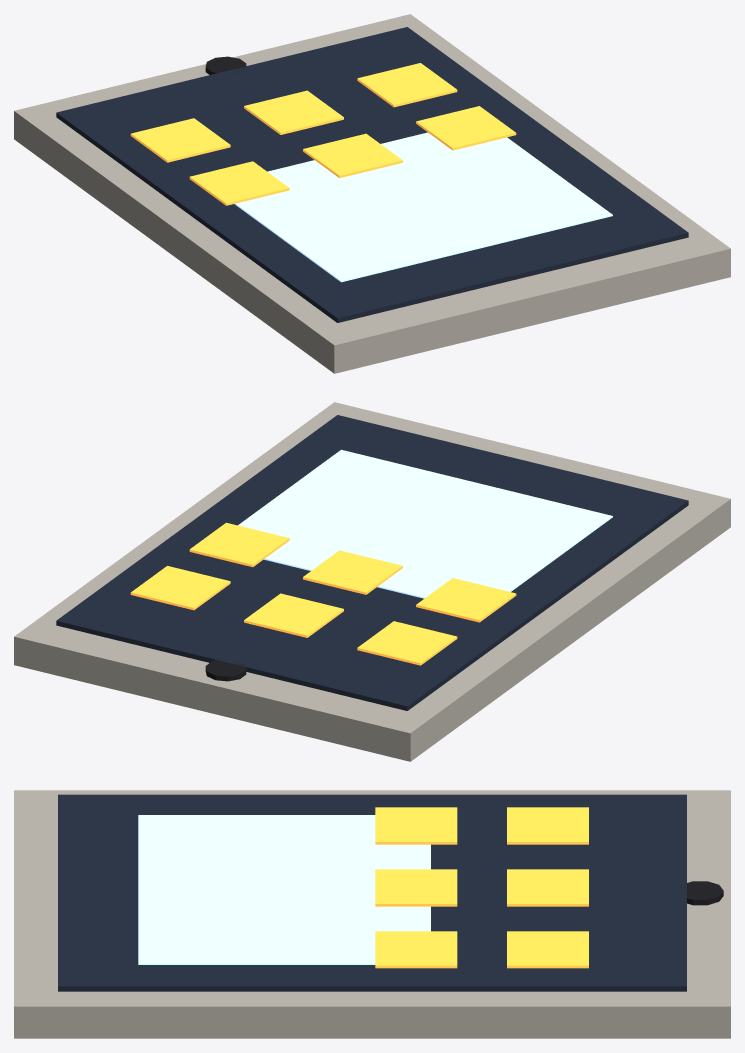
File: tablet.glb
3 renders of one model, top to bottom at view 1: azimuth 30°, elevation 25°; view 2: azimuth 150°, elevation 25°; view 3: azimuth 270°, elevation 25°, orthographic. The views are drawn at different scales.
Parts seen in each view (by area): view 1: tablet; view 2: tablet; view 3: tablet.
Boxes of the visible parts, <box> form: tablet: <box>14,14,730,373</box>; tablet: <box>14,402,730,761</box>; tablet: <box>14,790,730,1038</box>.
Bounding box in the file's own units: 0.175 × 0.018 × 0.245.
